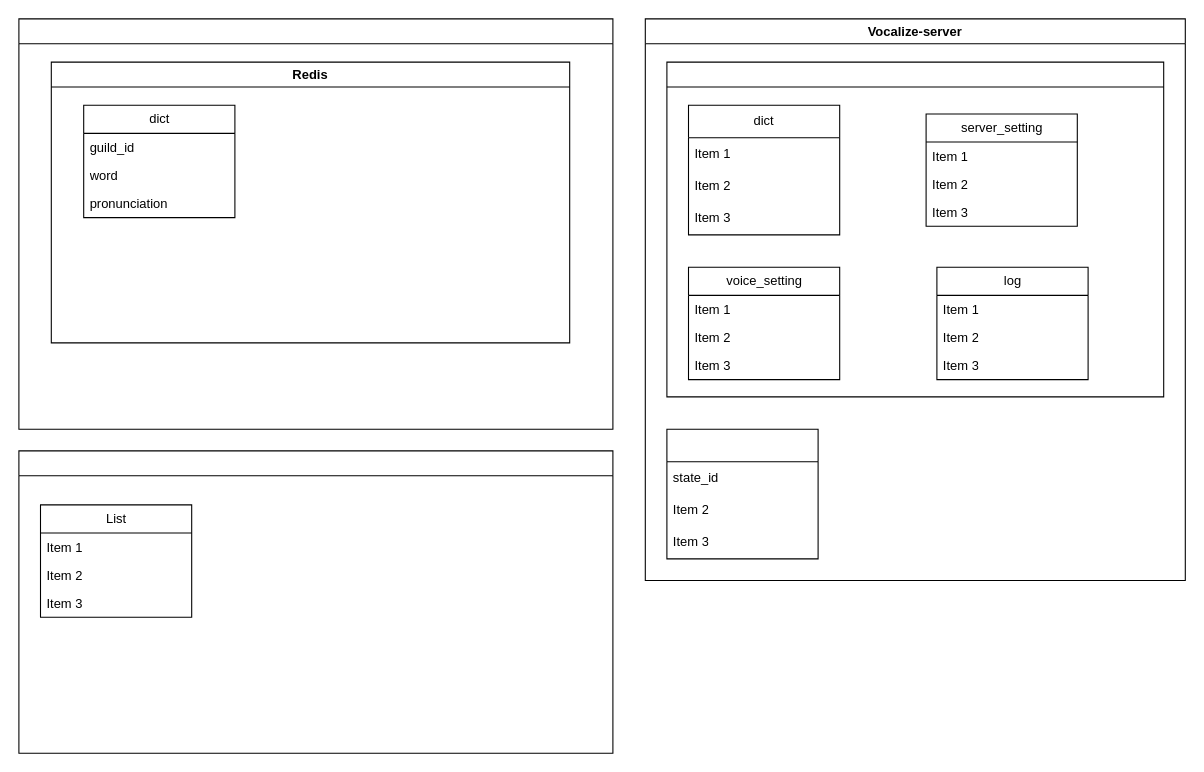
The diagram is 1204 pixels wide and 772 high, and some of its shapes have lost their labels. Each missing label, with the box of its shape:
DB: (666, 61, 1164, 397)
Vocalize-bot: (18, 18, 613, 429)
Vocalize-client: (18, 450, 613, 753)
接続情報 connection_state: (666, 428, 818, 559)
